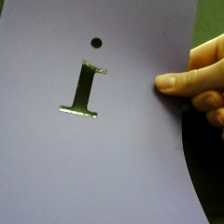violet1: (56, 35, 116, 122)
